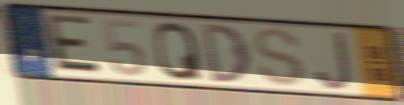5: (100, 17, 147, 79)
D: (199, 22, 254, 85)
E: (46, 12, 106, 78)
J: (313, 29, 355, 93)
Q: (152, 19, 205, 83)
S: (251, 26, 307, 89)
